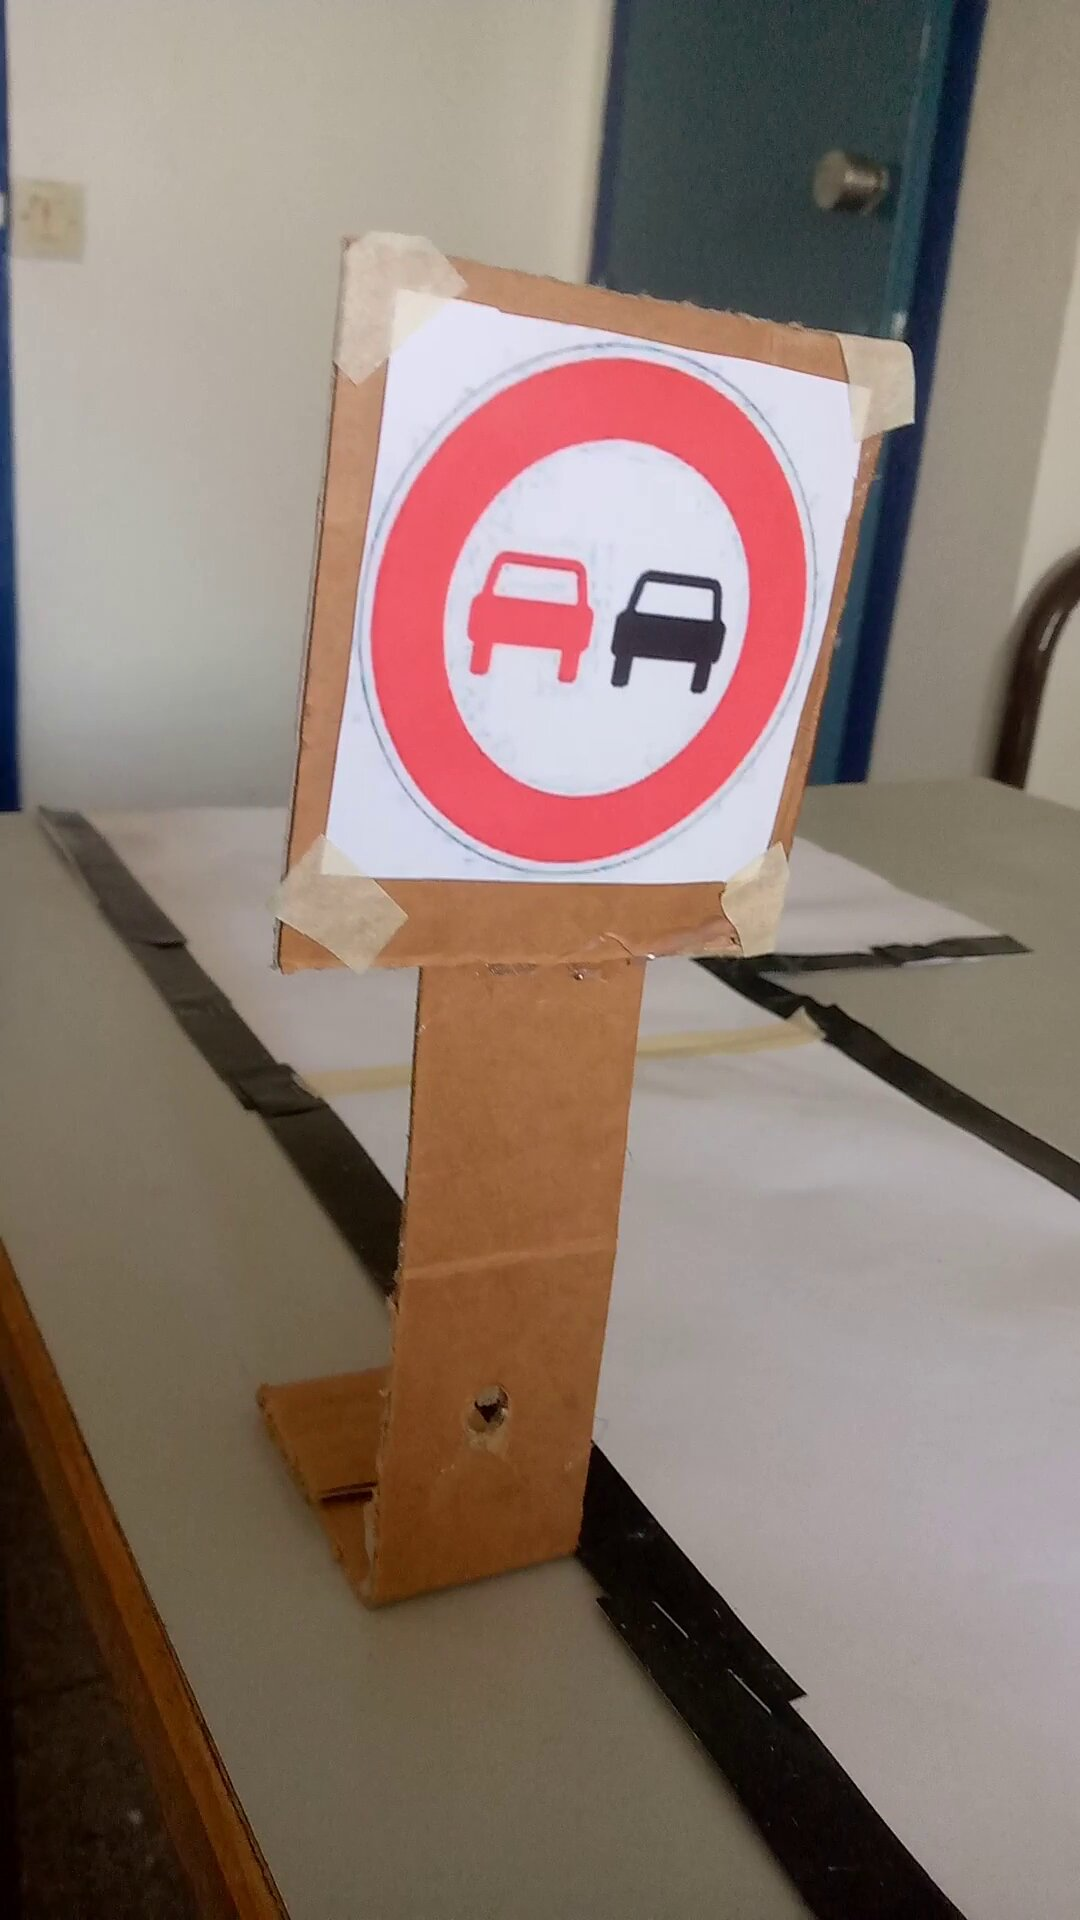panel100: (390, 280, 824, 926)
